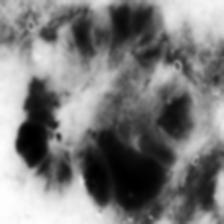Potentially Malignant Skin Tumors: (98, 124, 160, 216)
